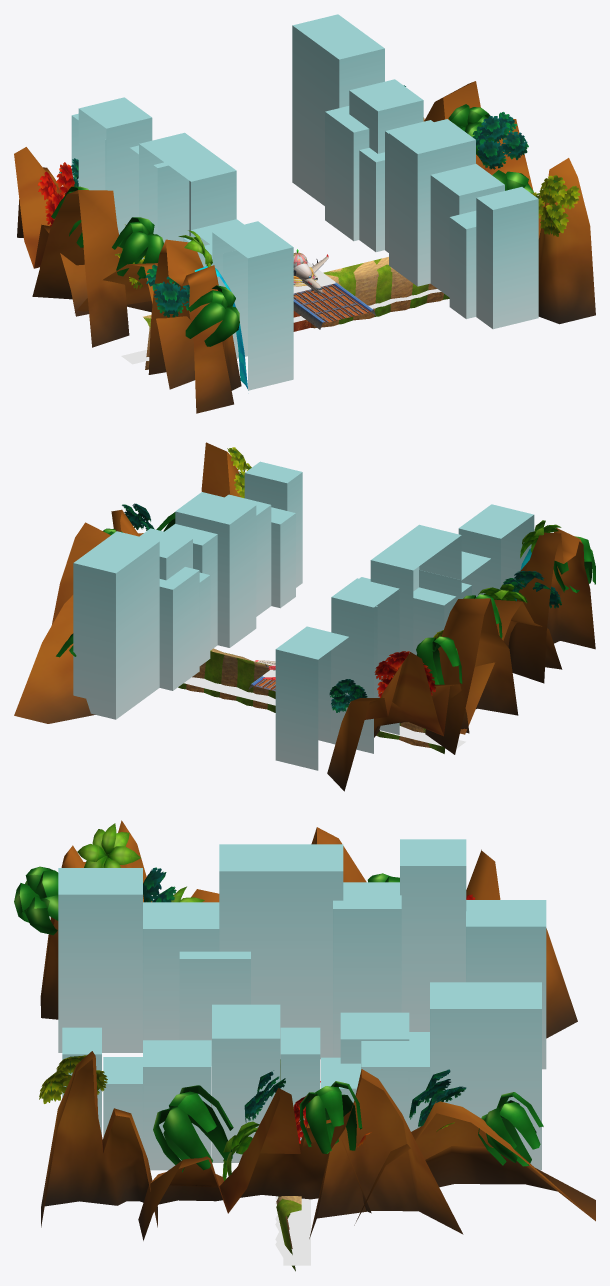
Rendered from TerrainE.FBX.
3 views of the same model, one above another, from view 1: azimuth 30°, elevation 25°; view 2: azimuth 150°, elevation 25°; view 3: azimuth 270°, elevation 25° (orthographic). The views are drawn at different scales.
Visible parts, largest first — view 1: FarBuilding02, FarBuilding01, MountainA01, MountainA02, MountainB01TreeB, MountainB02TreeA, AbyssL3, MountainB01TreeA, AbyssL4, SeaPath, MountainB02TreeB; view 2: FarBuilding02, FarBuilding01, MountainA01, MountainA02, MountainB01TreeB, AbyssL3, MountainB01TreeA, AbyssL4, MountainB02TreeA; view 3: FarBuilding01, FarBuilding02, MountainA02, MountainB02TreeB, MountainA01, MountainB01TreeB, MountainB02TreeA, AbyssL4, AbyssL3, MountainB01TreeA.
Part boxes in pixels (box(x1,y1,x2,y2)): FarBuilding02: box(292, 14, 538, 329); FarBuilding01: box(71, 97, 293, 390); MountainA01: box(14, 147, 241, 413); MountainA02: box(423, 81, 595, 324); MountainB01TreeB: box(51, 186, 239, 346); MountainB02TreeA: box(404, 85, 580, 236); AbyssL3: box(136, 257, 443, 369); MountainB01TreeA: box(38, 158, 189, 317); AbyssL4: box(121, 258, 449, 364); SeaPath: box(293, 261, 375, 329); MountainB02TreeB: box(448, 104, 533, 193); FarBuilding02: box(73, 461, 302, 719); FarBuilding01: box(275, 504, 534, 770); MountainA01: box(327, 528, 595, 791); MountainA02: box(14, 442, 241, 723); MountainB01TreeB: box(416, 520, 595, 684); AbyssL3: box(185, 648, 464, 748); MountainB01TreeA: box(329, 571, 561, 712); AbyssL4: box(178, 650, 465, 753); MountainB02TreeA: box(122, 447, 251, 530); FarBuilding01: box(58, 839, 546, 1069); FarBuilding02: box(62, 982, 541, 1170); MountainA02: box(41, 1051, 595, 1240); MountainB02TreeB: box(153, 1081, 543, 1180); MountainA01: box(40, 820, 577, 1038); MountainB01TreeB: box(14, 823, 399, 935); MountainB02TreeA: box(39, 1055, 466, 1147); AbyssL4: box(275, 1059, 310, 1271); AbyssL3: box(275, 1196, 310, 1259); MountainB01TreeA: box(143, 867, 475, 902).
Bounding box in the file's own units: 24825 × 11342 × 23954.
